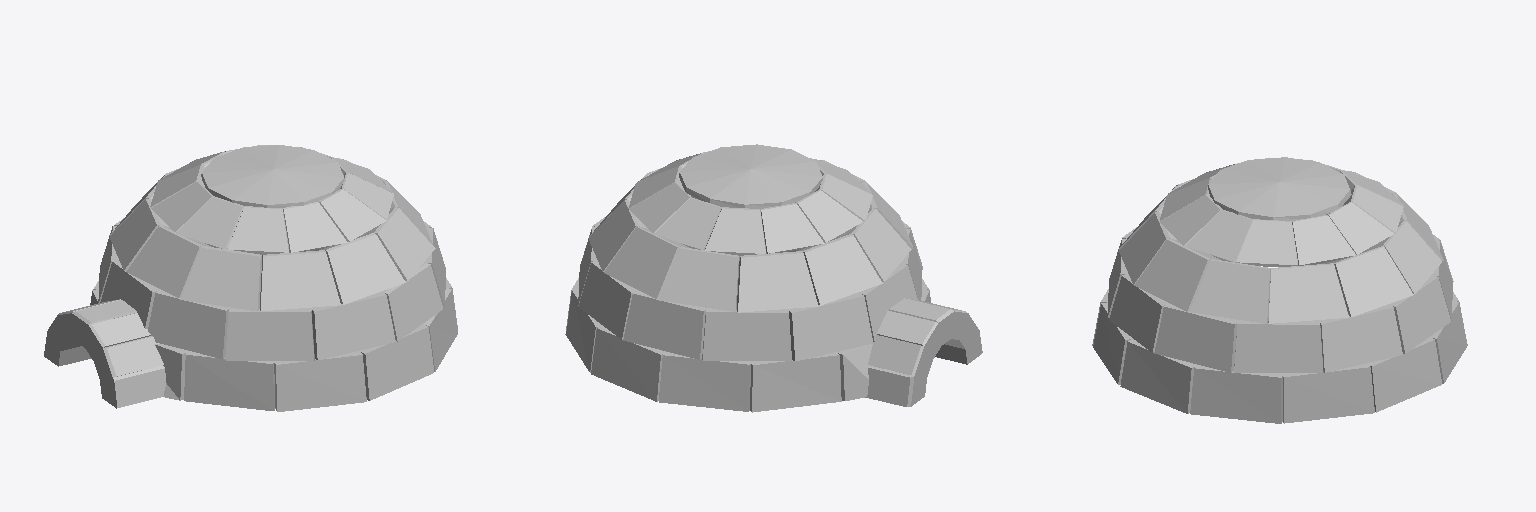
File: igloo.obj
The picture shows the model from 3 angles: view 1: azimuth 30°, elevation 25°; view 2: azimuth 150°, elevation 25°; view 3: azimuth 270°, elevation 25°; orthographic projection.
Visible parts, largest first — view 1: igloo; view 2: igloo; view 3: igloo.
Part boxes in pixels (x1,y1,x2,y2): igloo: (44, 145, 457, 411); igloo: (565, 144, 982, 412); igloo: (1092, 157, 1467, 423).
Bounding box in the file's own units: 6.57 × 2.92 × 6.01.